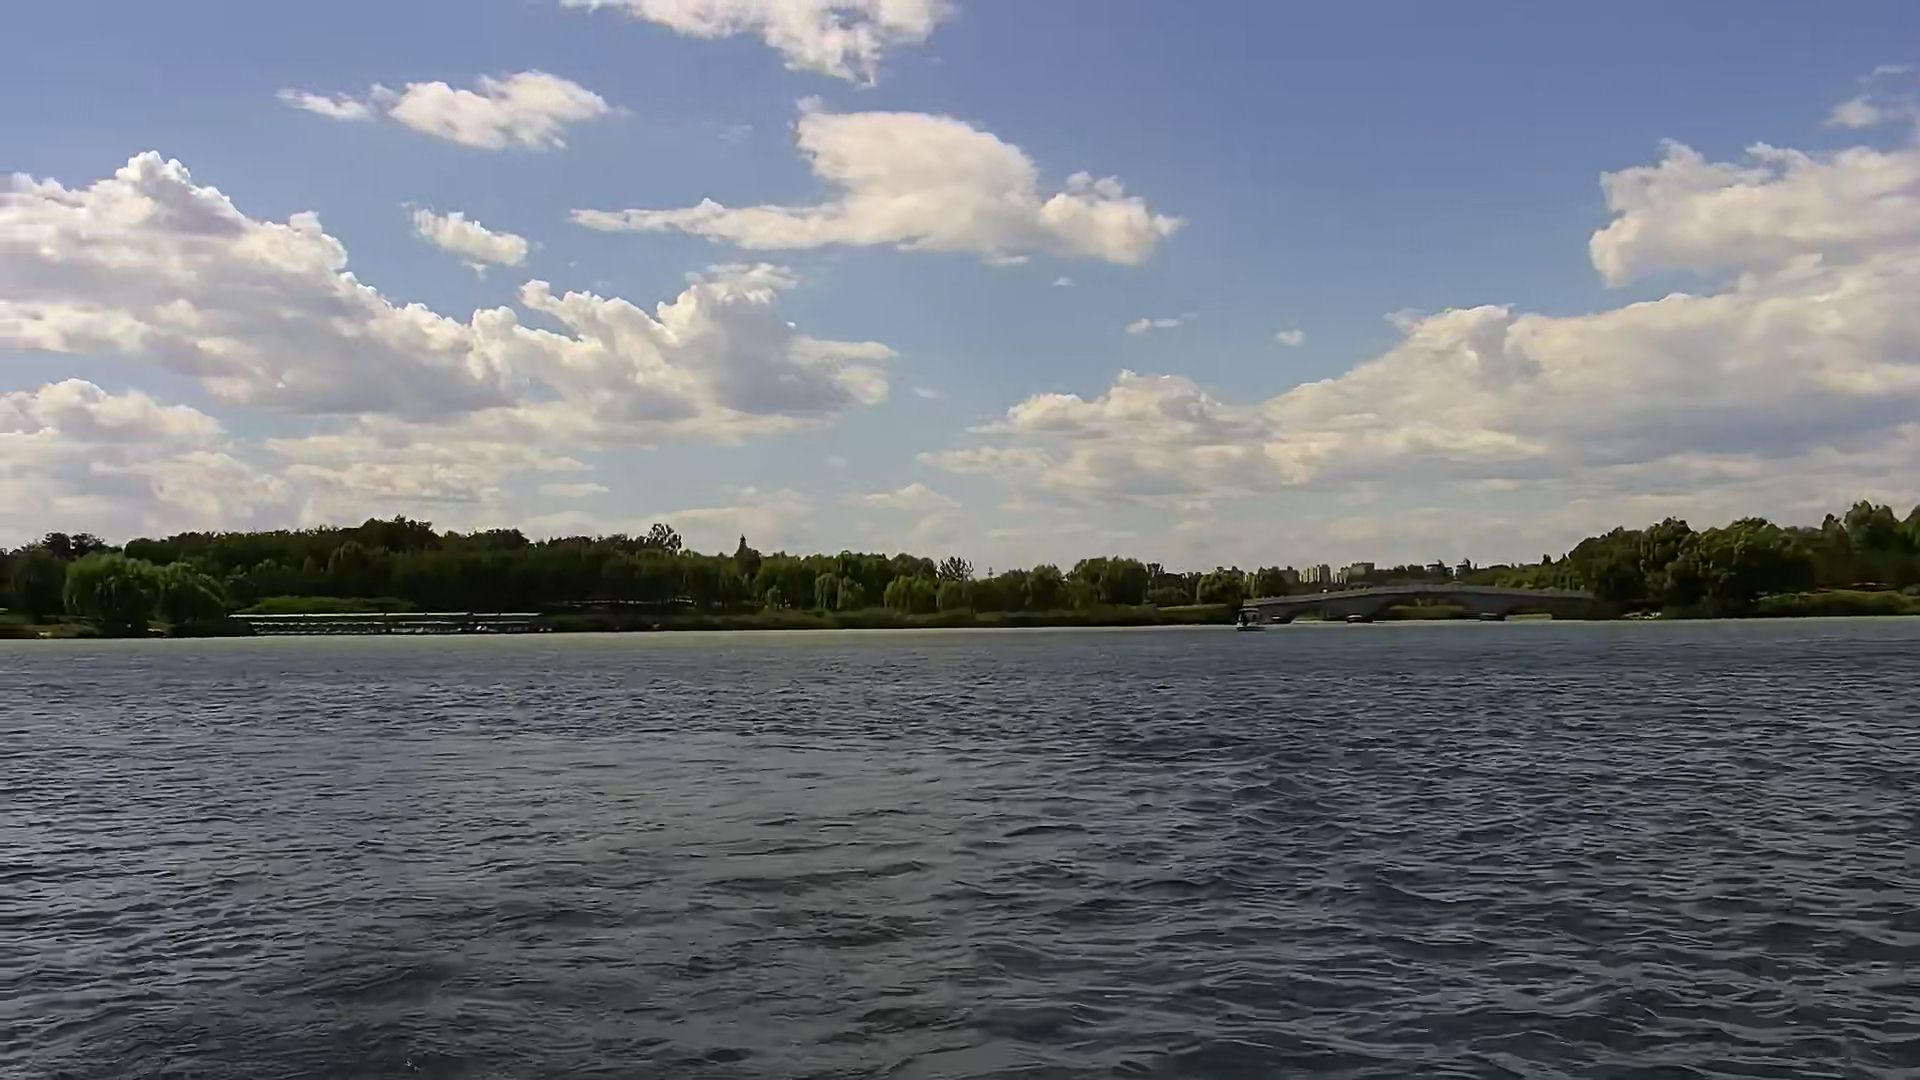boat: (1229, 611, 1269, 636)
bridge: (1240, 587, 1588, 622), (251, 613, 543, 636)
